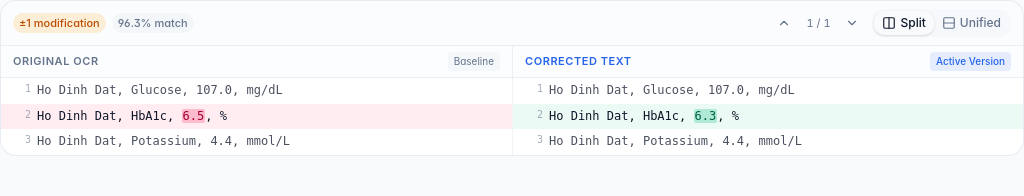
Test: RevisionDiff › toggles to unified view with removed and added markers
Click the button "Unified" at (971, 23), box [934,11,1009,35]
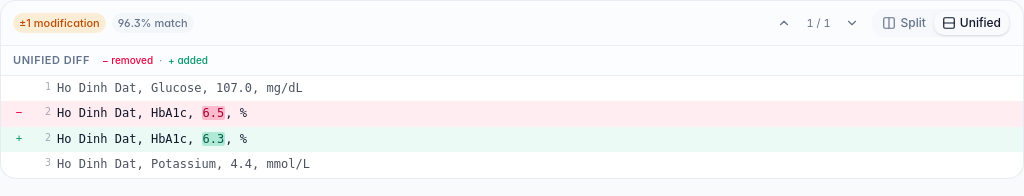
Result: the text "Unified diff" is shown at [13,52,90,68]
Result: the element showing "+ 2 Ho Dinh Dat, HbA1c, 6.3, %" is shown at [1,126,1023,152]
